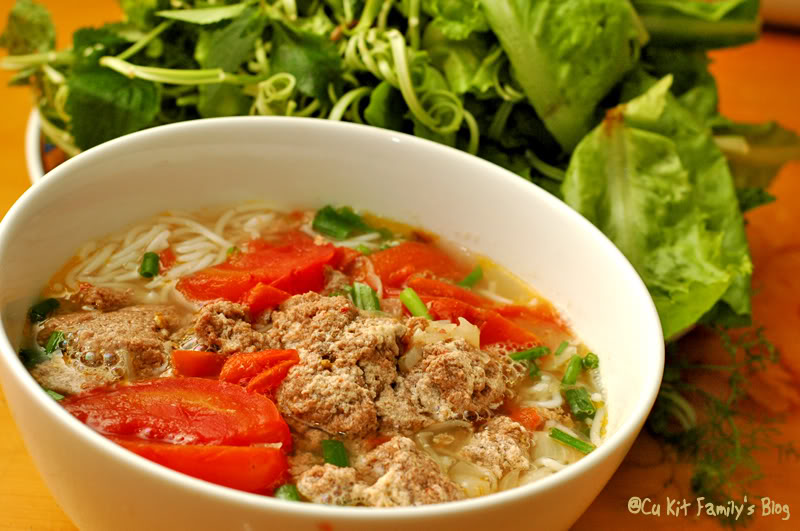rieu: (55, 286, 175, 376), (286, 292, 400, 374), (313, 441, 447, 510), (416, 329, 507, 417), (287, 375, 383, 436)
tomato: (72, 375, 287, 493), (371, 242, 517, 322), (183, 230, 335, 298)
